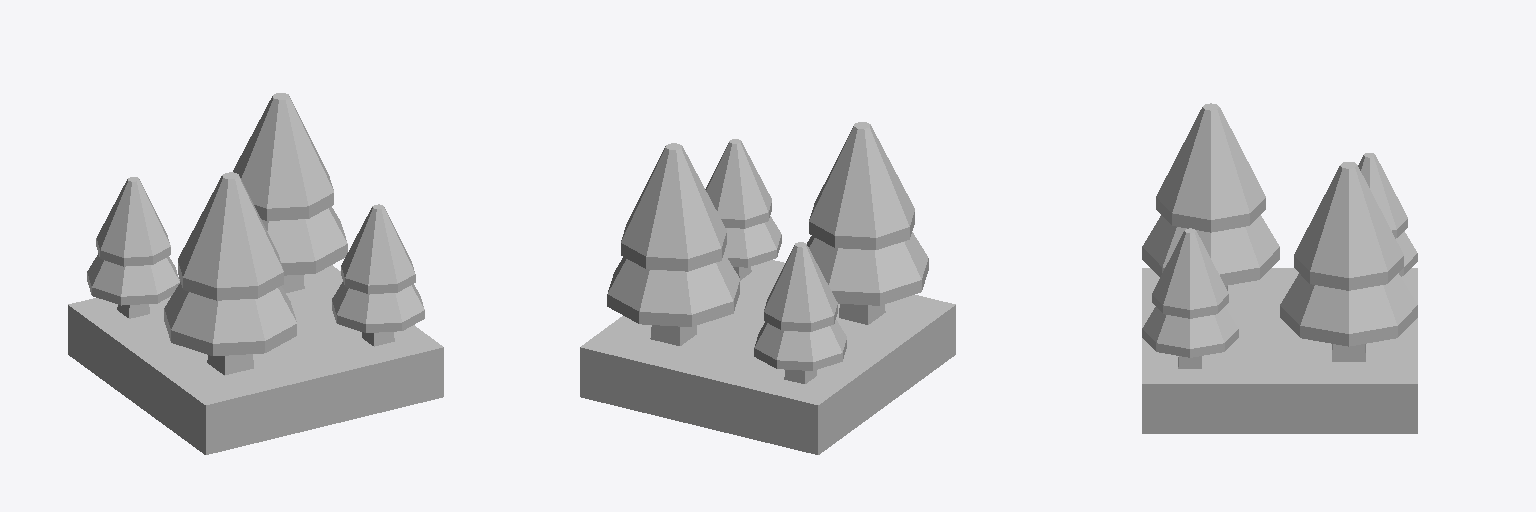
File: TreeQuad.obj
3 renders of one model, left to right at view 1: azimuth 30°, elevation 25°; view 2: azimuth 150°, elevation 25°; view 3: azimuth 270°, elevation 25°, orthographic.
Visible parts, largest first — view 1: tree, TreeQuad; view 2: tree, TreeQuad; view 3: tree, TreeQuad.
Boxes of the visible parts, box(x1,y1,x2,y2) form: tree: box(87, 93, 424, 375); TreeQuad: box(68, 265, 443, 454); tree: box(607, 122, 928, 383); TreeQuad: box(580, 260, 955, 454); tree: box(1142, 103, 1417, 368); TreeQuad: box(1142, 268, 1417, 433).
Size of the model in its own units: 1 by 0.96 by 1.